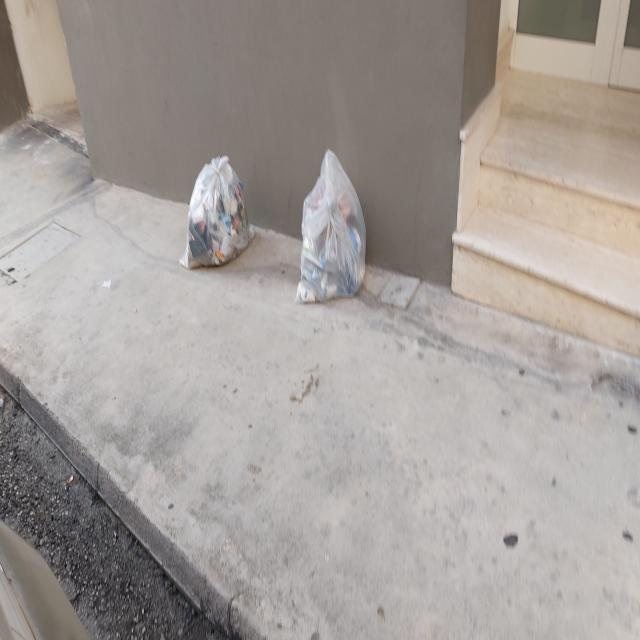Recycled Waste -Grey or Green Bag-: (294, 151, 370, 315), (182, 150, 259, 276)
